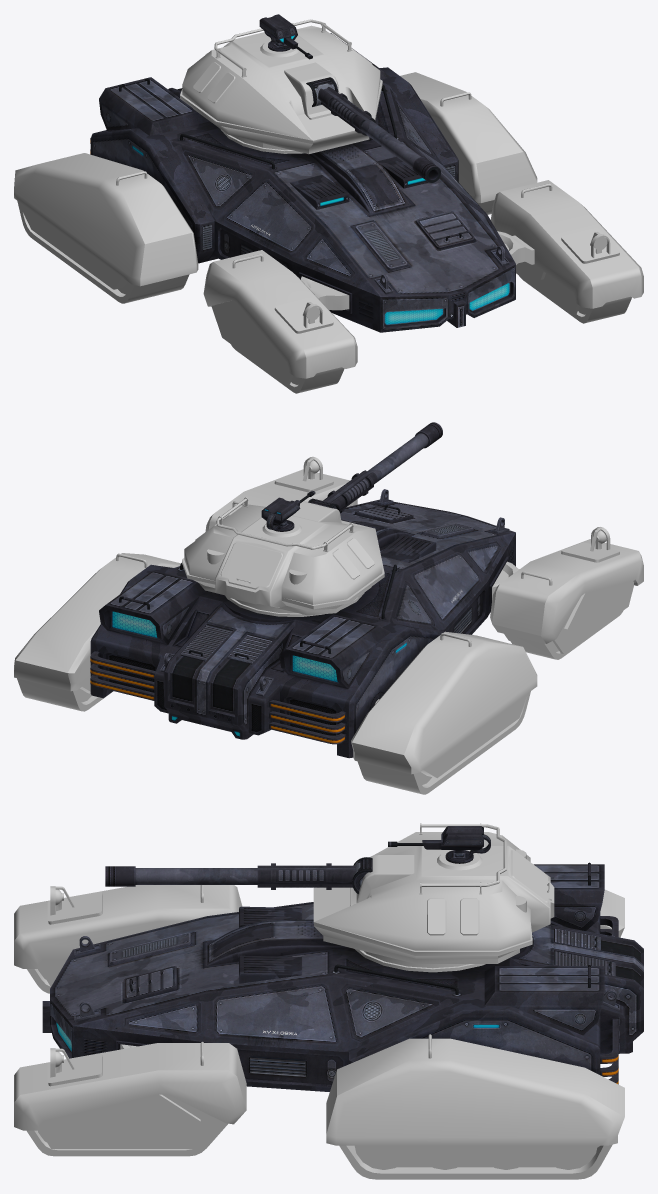
3 renders of one model, top to bottom at view 1: azimuth 30°, elevation 25°; view 2: azimuth 150°, elevation 25°; view 3: azimuth 270°, elevation 25°, orthographic. The views are drawn at different scales.
Parts seen in each view (by area): view 1: Geode; view 2: Geode; view 3: Geode.
Boxes of the visible parts, left/top/right/bottom form: Geode: left=14, top=14, right=643, bottom=393; Geode: left=14, top=422, right=643, bottom=794; Geode: left=14, top=823, right=643, bottom=1179.
Bounding box in the file's own units: 481 × 231 × 560.
